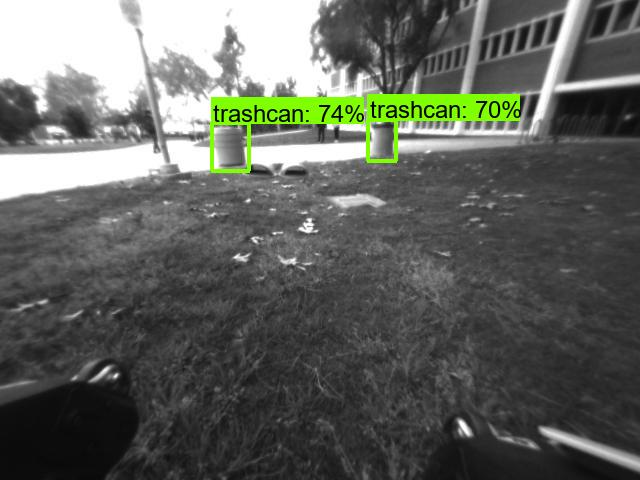trashcan: (211, 127, 247, 174), (368, 122, 393, 160)
